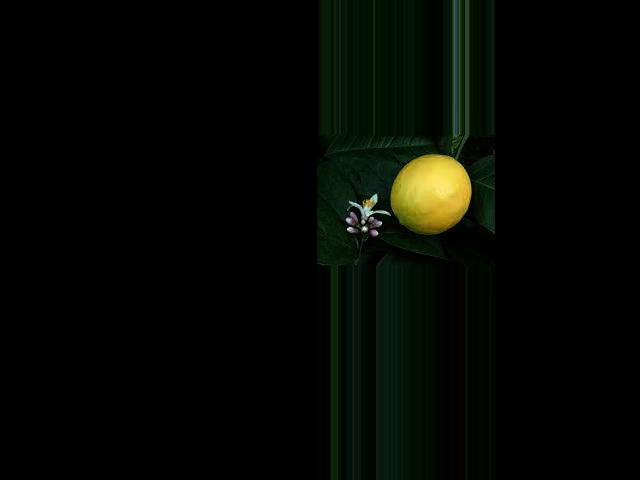lemon: (381, 143, 482, 240)
